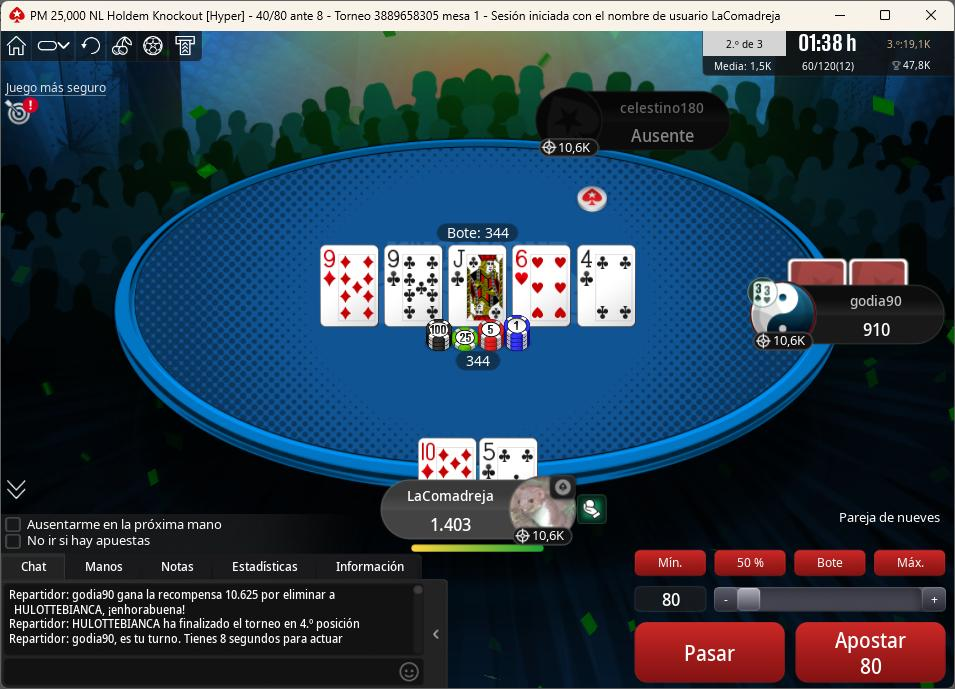ButtonCall: (620, 615, 782, 686)
ButtonMaxRaise: (874, 549, 950, 580)
ButtonMinRaise: (634, 549, 712, 581)
ButtonPotRaise: (792, 545, 866, 580)
ButtonRaise: (793, 618, 948, 684)
Dealer: (569, 184, 618, 218)
HiddenCards: (783, 259, 912, 287)
Player: (745, 283, 950, 352), (545, 96, 733, 161)
PlayerChips: (854, 322, 900, 343)
Pot: (435, 225, 523, 244)
PrincipalCards: (411, 439, 543, 484)
PrincipalCards1: (417, 436, 476, 482)
PrincipalCards2: (479, 437, 539, 481)
PrincipalPlayer: (382, 477, 586, 552)
PrincipalPlayerChips: (424, 518, 485, 538)
ShowedCards: (319, 240, 653, 337)
ShowedCards1: (318, 244, 379, 329)
ShowedCards2: (383, 242, 444, 328)
ShowedCards3: (448, 243, 508, 326)
ShowedCards4: (513, 244, 571, 327)
ShowedCards5: (577, 244, 637, 329)
SmallBigBlind: (245, 2, 335, 26)
TablePot: (418, 320, 552, 382)
